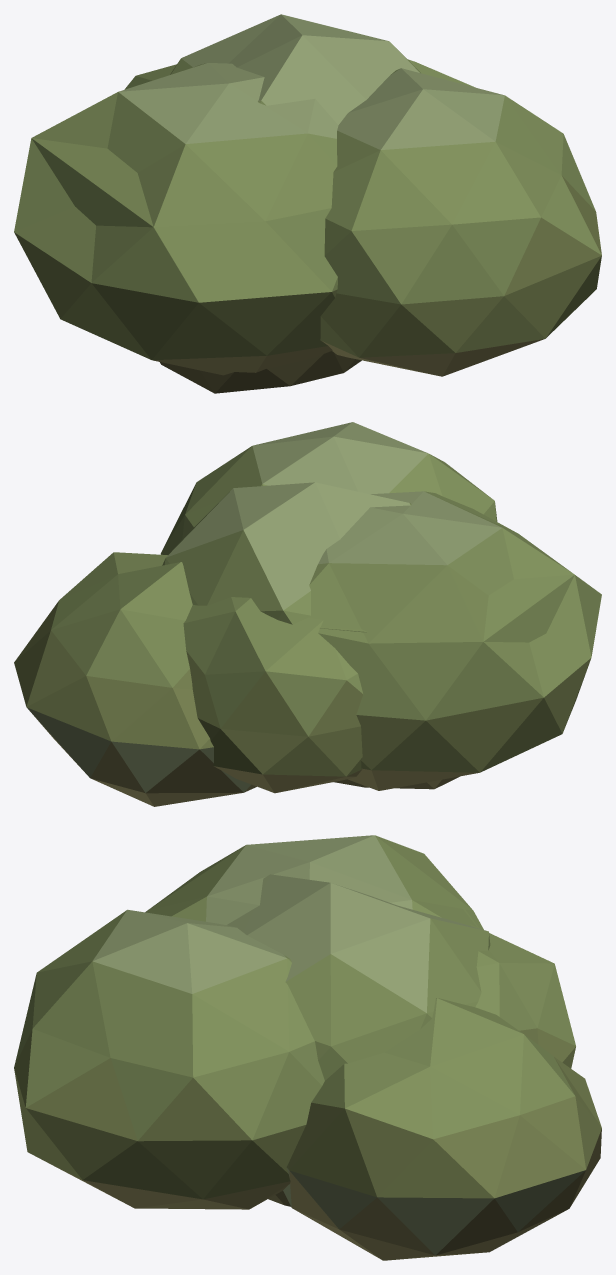
Rendered from Shrubs.fbx.
3 views of the same model, one above another, from view 1: azimuth 30°, elevation 25°; view 2: azimuth 150°, elevation 25°; view 3: azimuth 270°, elevation 25° (orthographic). The views are drawn at different scales.
Parts seen in each view (by area): view 1: Shrub_02, Shrub_02_Far, Shrub_01; view 2: Shrub_02, Shrub_02_Far; view 3: Shrub_02.
Boxes of the visible parts, bbox=[...] form: Shrub_02: bbox=[14, 14, 601, 376]; Shrub_02_Far: bbox=[31, 138, 153, 227]; Shrub_01: bbox=[160, 351, 361, 393]; Shrub_02: bbox=[14, 422, 601, 806]; Shrub_02_Far: bbox=[320, 574, 574, 642]; Shrub_02: bbox=[14, 835, 601, 1260].
Bounding box in the file's own units: 1.62 × 0.8862 × 1.6.
1 material, 1 textured.
